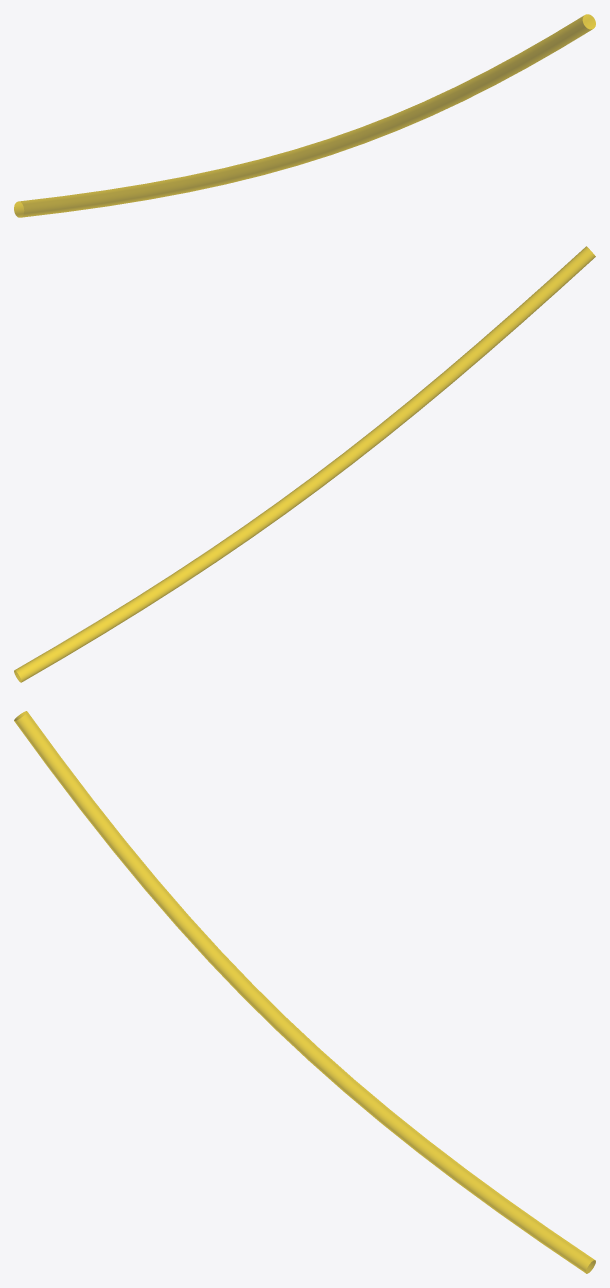
The model's file is Event_84804159_track_8.fbx.
The picture shows the model from 3 angles, top to bottom: view 1: azimuth 90°, elevation 25°; view 2: azimuth 150°, elevation 25°; view 3: azimuth 270°, elevation 25°; orthographic projection. The views are drawn at different scales.
Parts seen in each view (by area): view 1: Model; view 2: Model; view 3: Model.
Boxes of the visible parts, bbox=[...] form: Model: bbox=[14, 14, 595, 217]; Model: bbox=[14, 246, 595, 682]; Model: bbox=[14, 711, 595, 1273].
Size of the model in its own units: 1.08 by 1.03 by 1.42.
